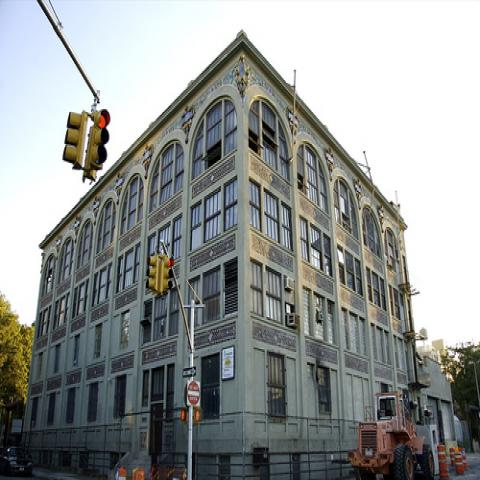car: (0, 446, 31, 475)
truck: (347, 392, 428, 479)
